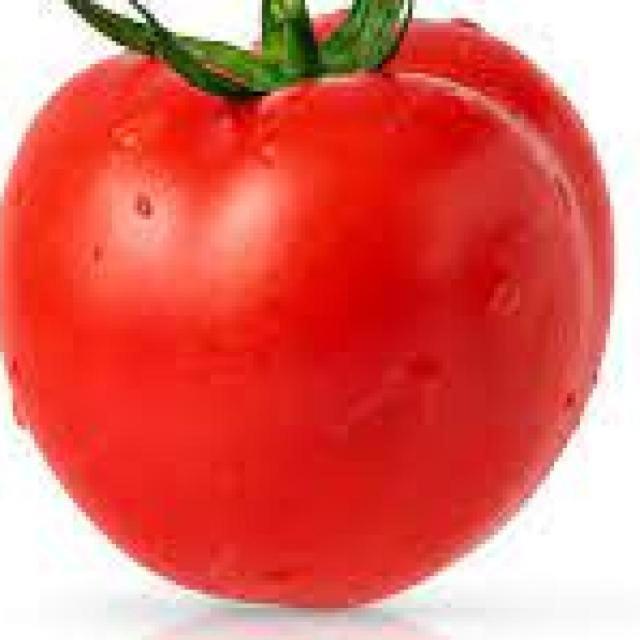Healthy Fruit: (4, 9, 425, 415)
